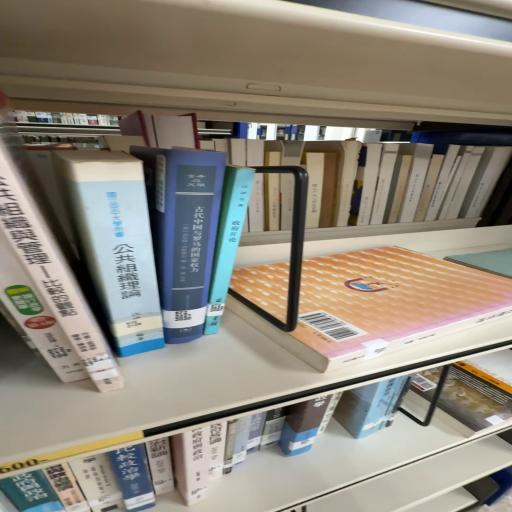flat: (227, 247, 512, 373), (439, 350, 512, 433), (413, 368, 442, 410)
